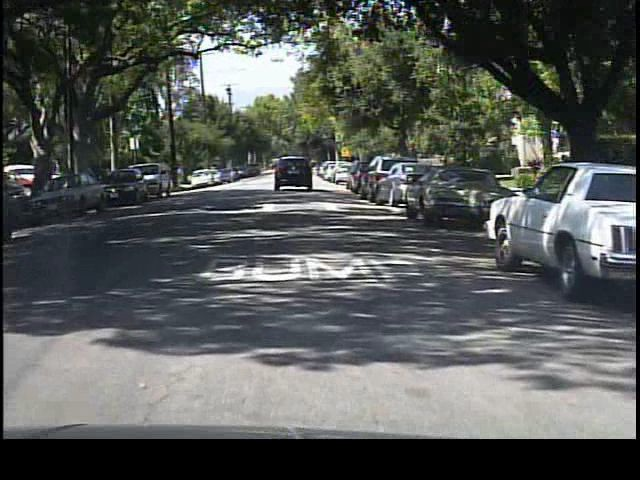person: (176, 164, 188, 190)
